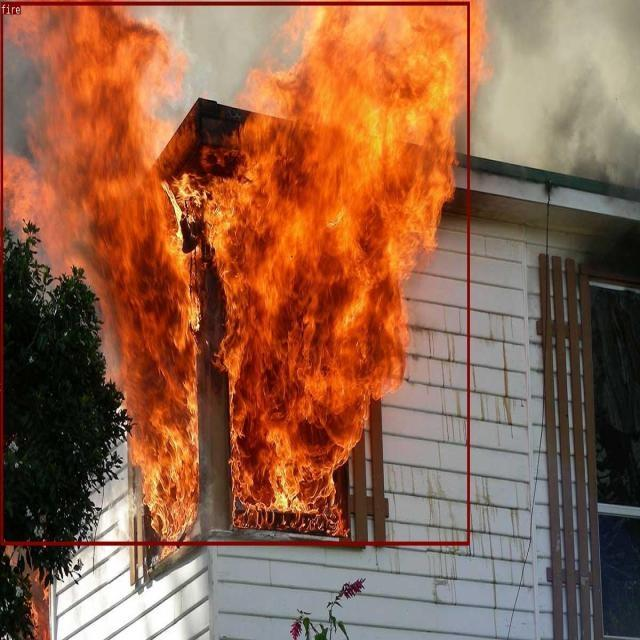fire: (0, 2, 469, 545)
